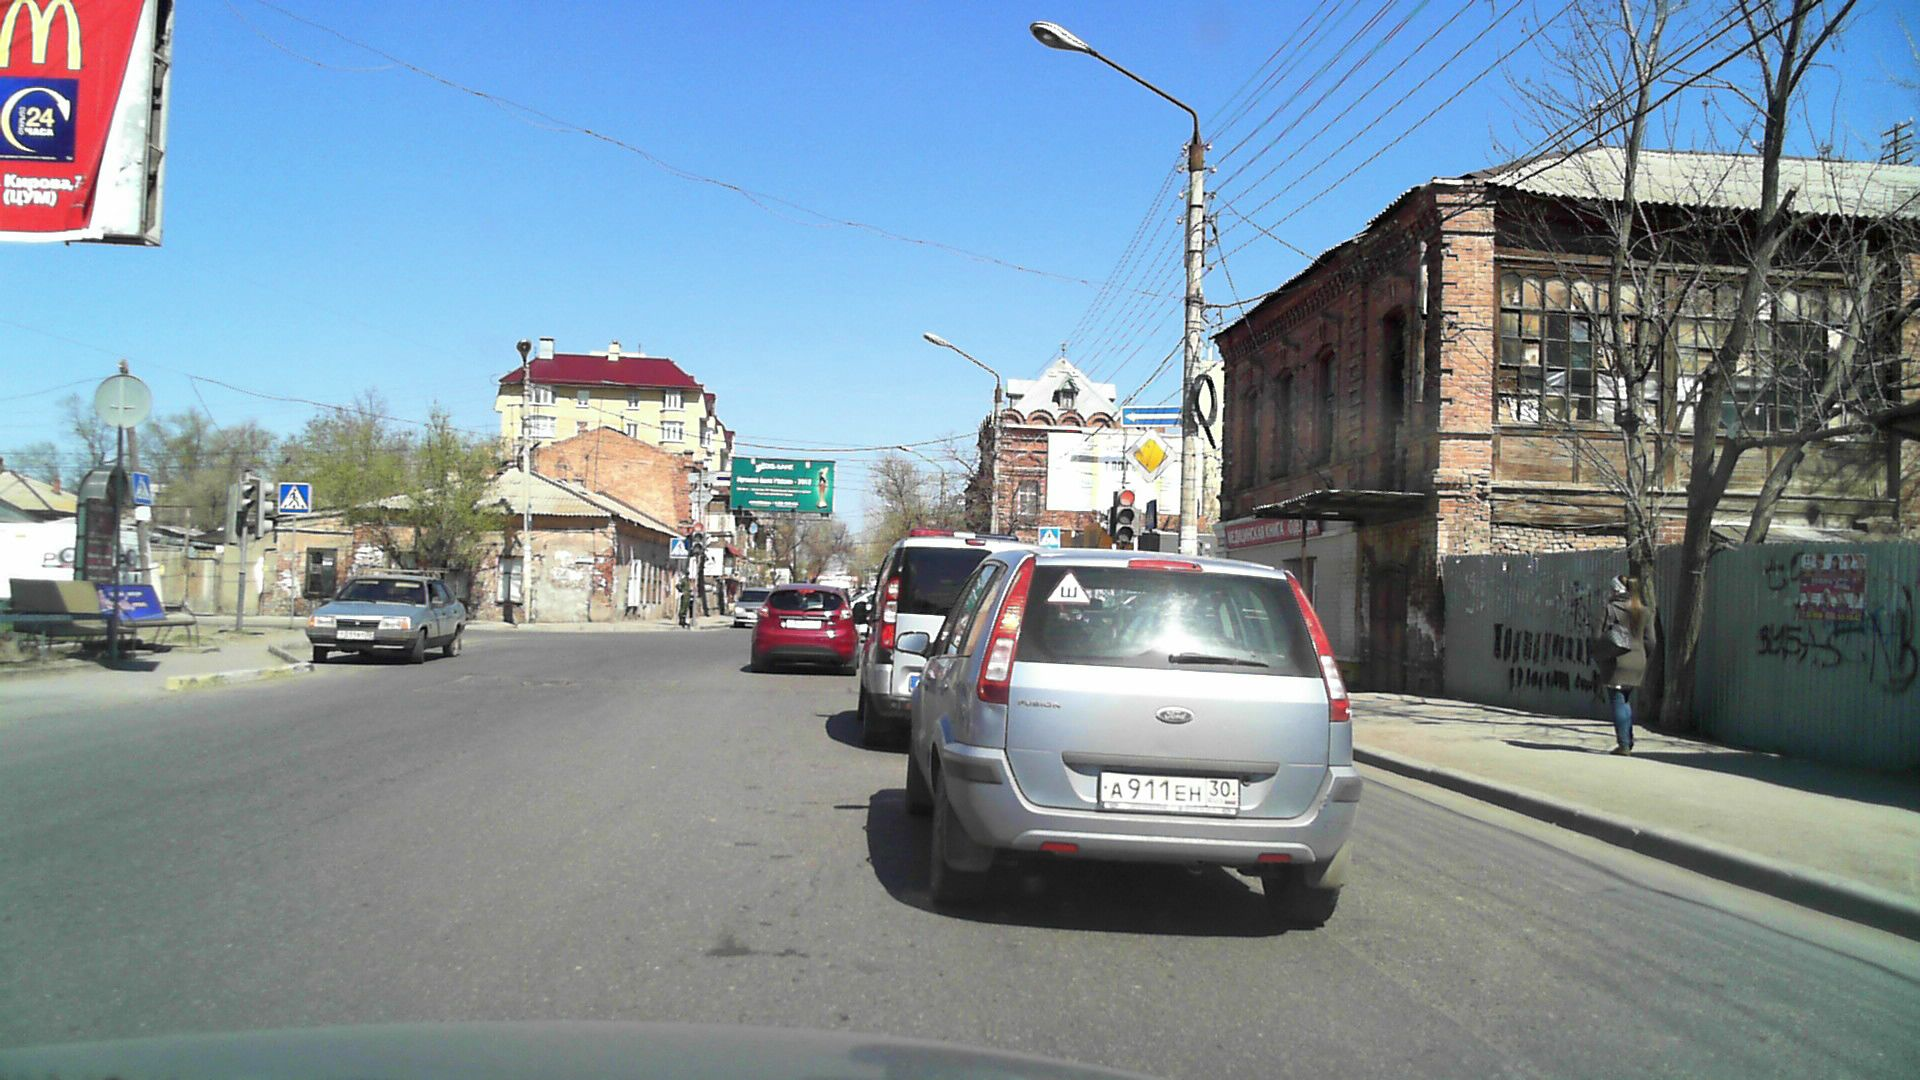One-Way Traffic: (1121, 406, 1184, 426)
